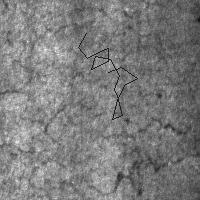crazing: (3, 21, 69, 149), (90, 115, 198, 193), (78, 33, 137, 119)
